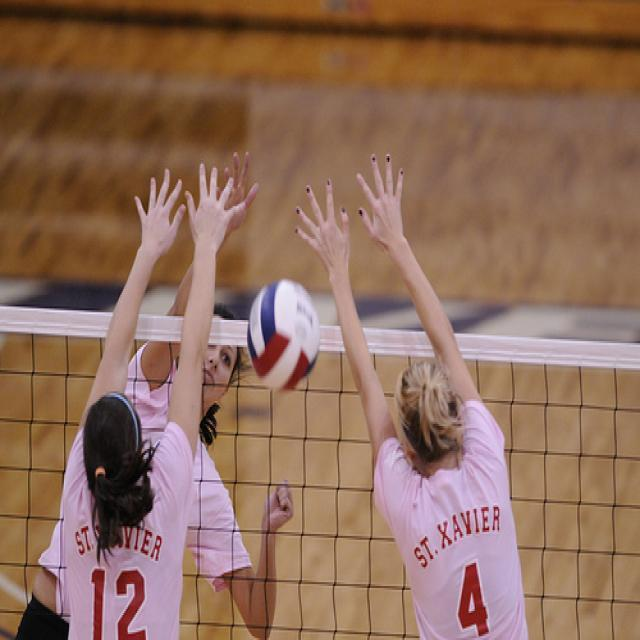volleyball: (248, 279, 318, 394)
